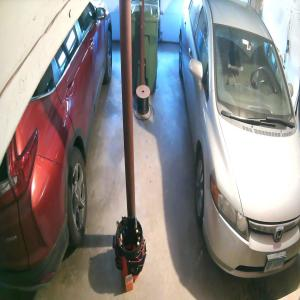garbage bin: (130, 0, 160, 96)
honda civic: (178, 0, 300, 280)
honda crv: (0, 0, 112, 293)
tool bucket: (112, 214, 148, 292)
